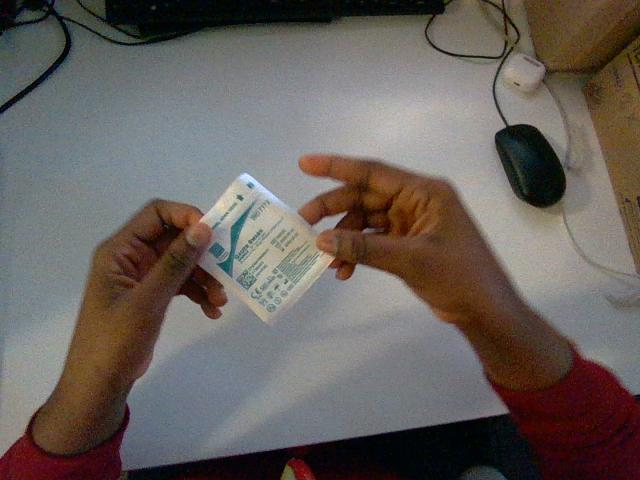gauze: (199, 173, 332, 322)
